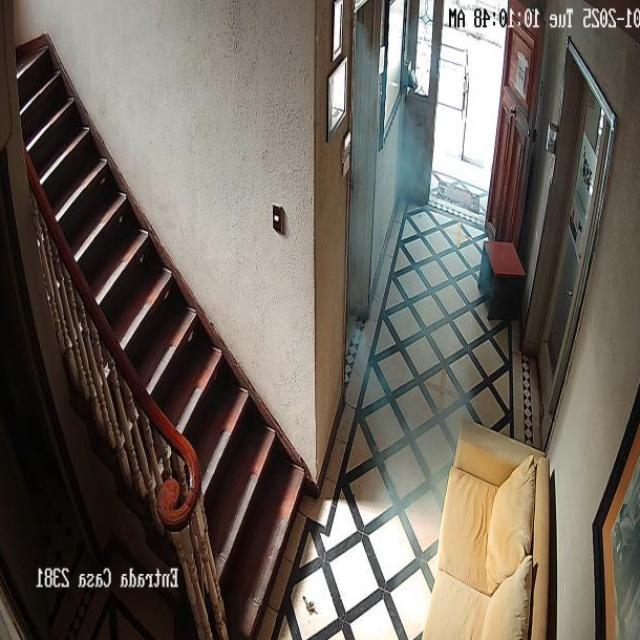fire: (348, 11, 483, 596)
